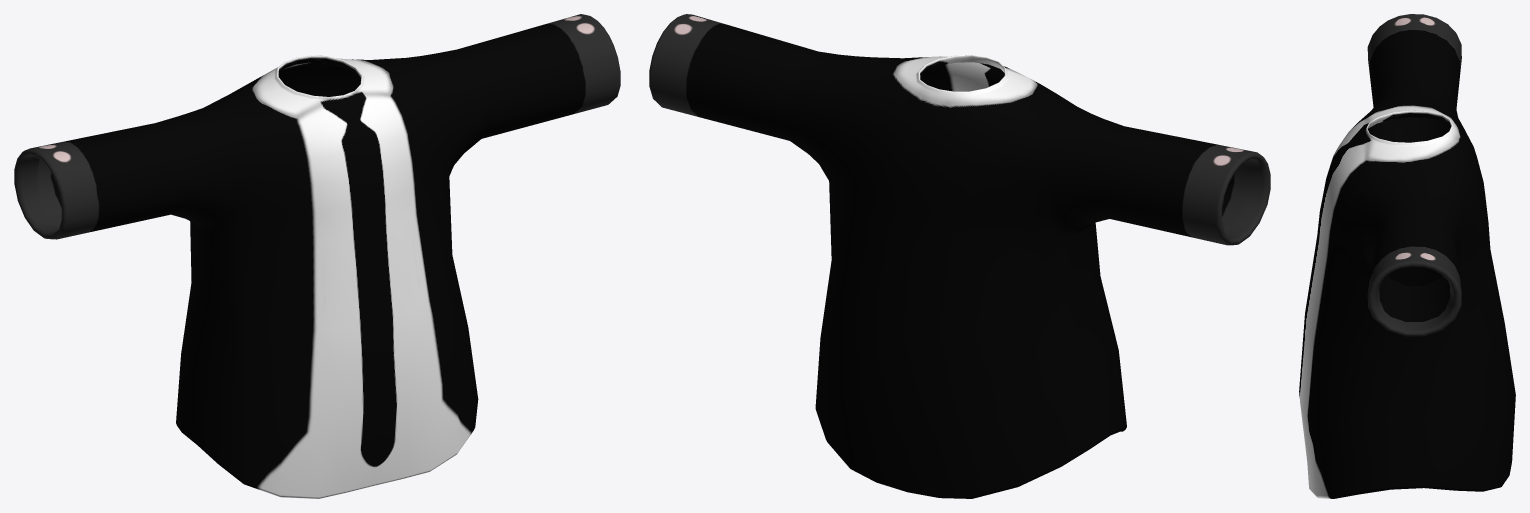
Rendered from upper cloth 11.glb.
3 views of the same model, side by side, from view 1: azimuth 30°, elevation 25°; view 2: azimuth 150°, elevation 25°; view 3: azimuth 270°, elevation 25° (orthographic). The views are drawn at different scales.
Parts seen in each view (by area): view 1: upper_cloth_11; view 2: upper_cloth_11; view 3: upper_cloth_11.
Part boxes in pixels (x1=…): upper_cloth_11: x1=14, y1=14, x2=620, y2=498; upper_cloth_11: x1=649, y1=14, x2=1270, y2=498; upper_cloth_11: x1=1299, y1=14, x2=1515, y2=498.
Size of the model in its own units: 0.0118 by 0.00751 by 0.00432.
1 material, 1 textured.
